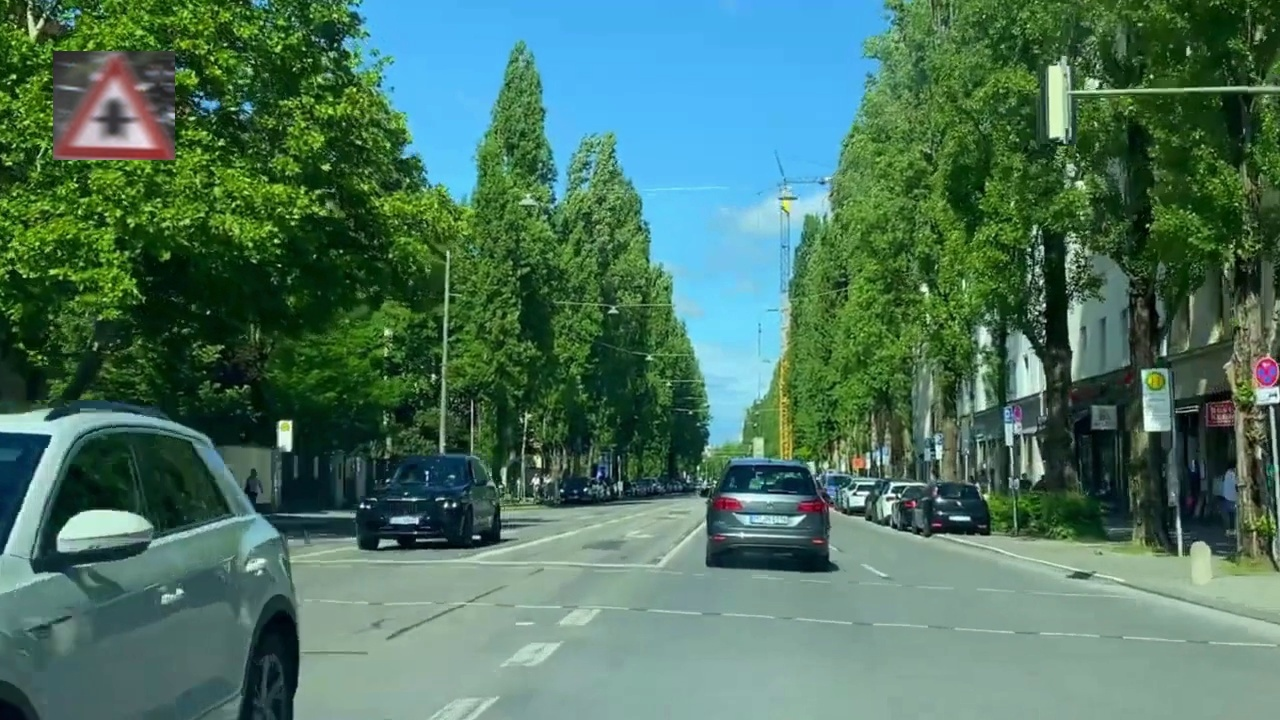Right-of-way: (53, 51, 175, 160)
